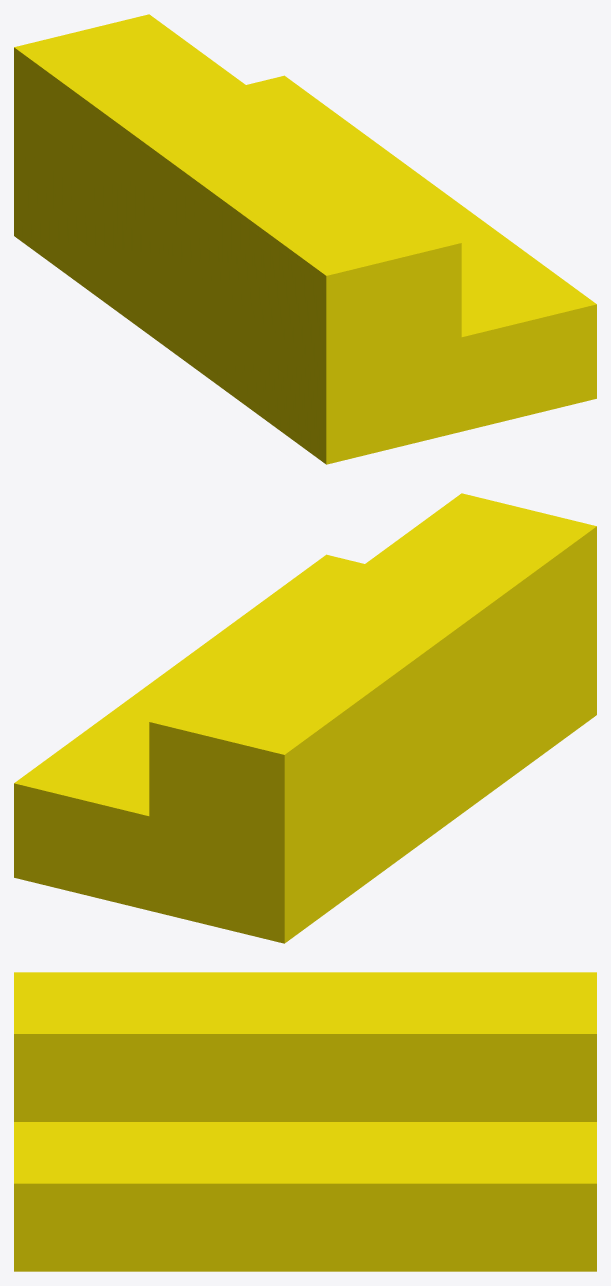
Rendered from modelo_didático_2.glb.
3 renders of one model, top to bottom at view 1: azimuth 30°, elevation 25°; view 2: azimuth 150°, elevation 25°; view 3: azimuth 270°, elevation 25°, orthographic. The views are drawn at different scales.
Parts seen in each view (by area): view 1: Modelo didatico 2.SLDPRT; view 2: Modelo didatico 2.SLDPRT; view 3: Modelo didatico 2.SLDPRT.
Boxes of the visible parts, left/top/right/bottom form: Modelo didatico 2.SLDPRT: left=14, top=14, right=596, bottom=464; Modelo didatico 2.SLDPRT: left=14, top=493, right=596, bottom=943; Modelo didatico 2.SLDPRT: left=14, top=972, right=596, bottom=1271.
Size of the model in its own units: 0.03 by 0.02 by 0.06.
